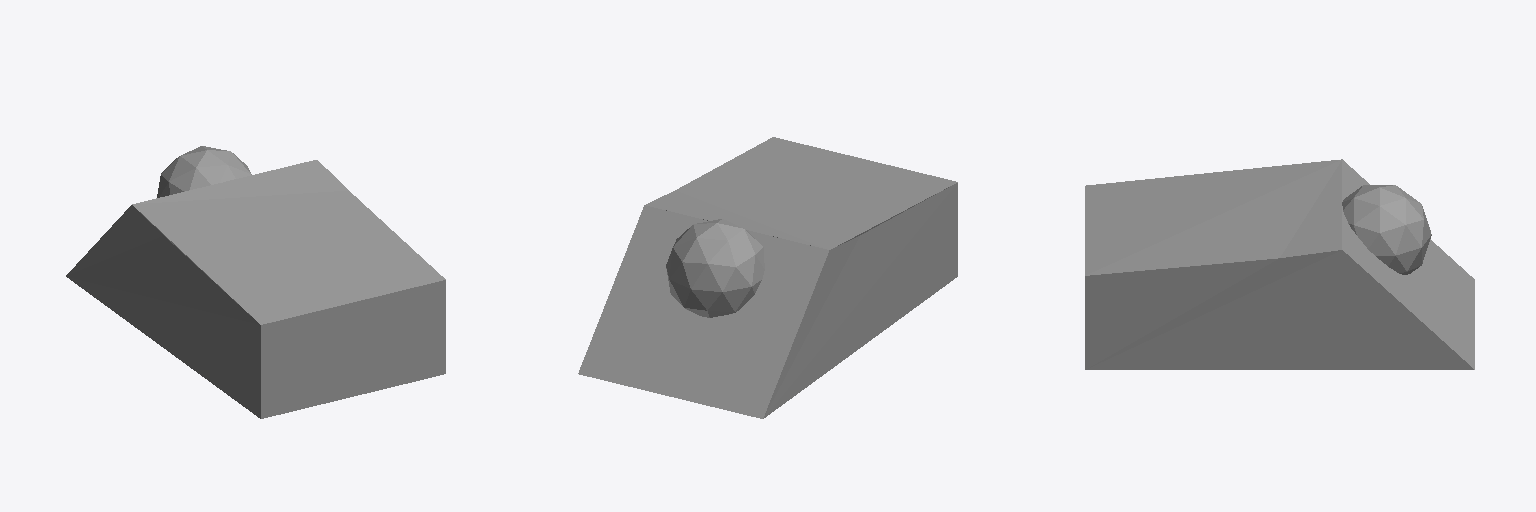
File: testcar.obj
3 views of the same model, side by side, from view 1: azimuth 30°, elevation 25°; view 2: azimuth 150°, elevation 25°; view 3: azimuth 270°, elevation 25° (orthographic).
Parts seen in each view (by area): view 1: Cube; view 2: Cube; view 3: Cube.
Part boxes in pixels (x1,y1,x2,y2): Cube: (66,146,445,418); Cube: (578,137,957,418); Cube: (1085,159,1474,369).
Bounding box in the file's own units: 3.23 × 2.3 × 5.88.